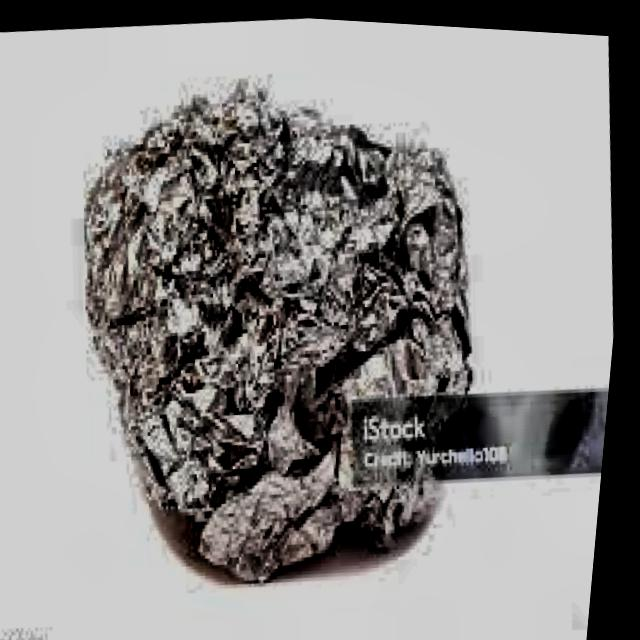Foil: (31, 29, 539, 635)
